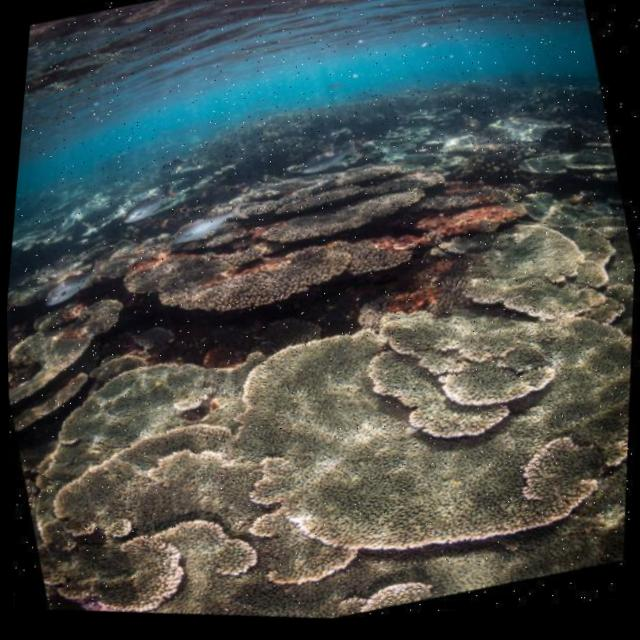Healthy Coral: (3, 146, 640, 640), (82, 99, 564, 386)
